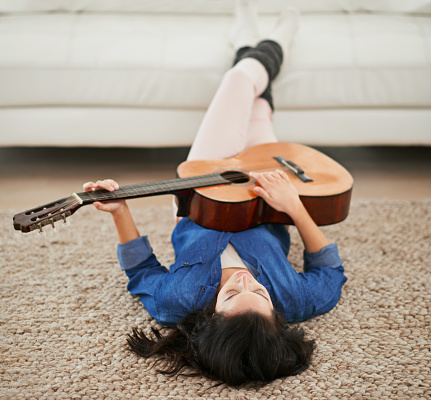deitado: (26, 69, 388, 389)
